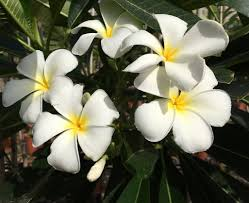frangipani: (33, 78, 119, 174)
